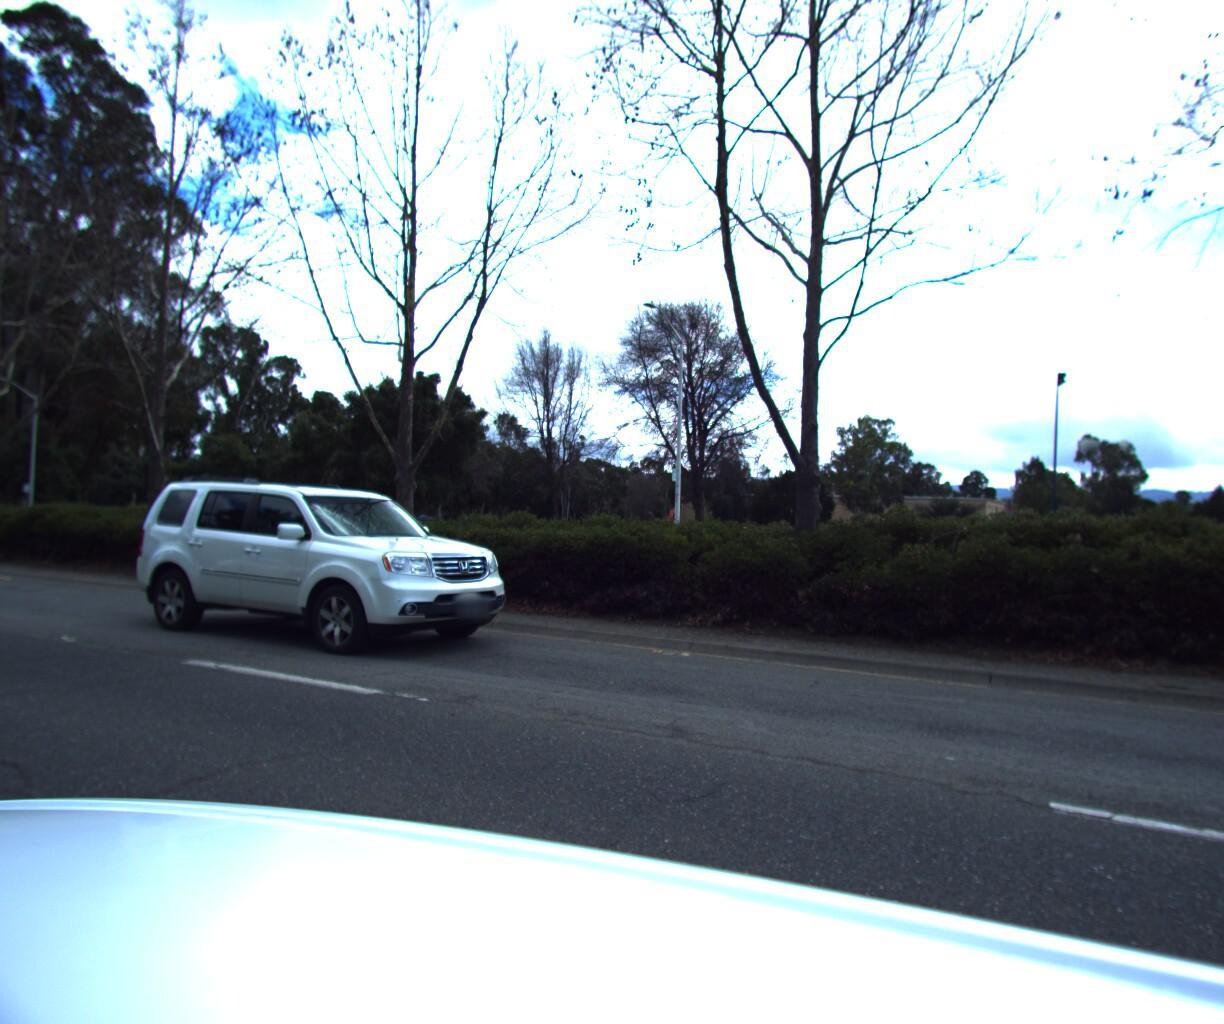car: (110, 470, 548, 670)
